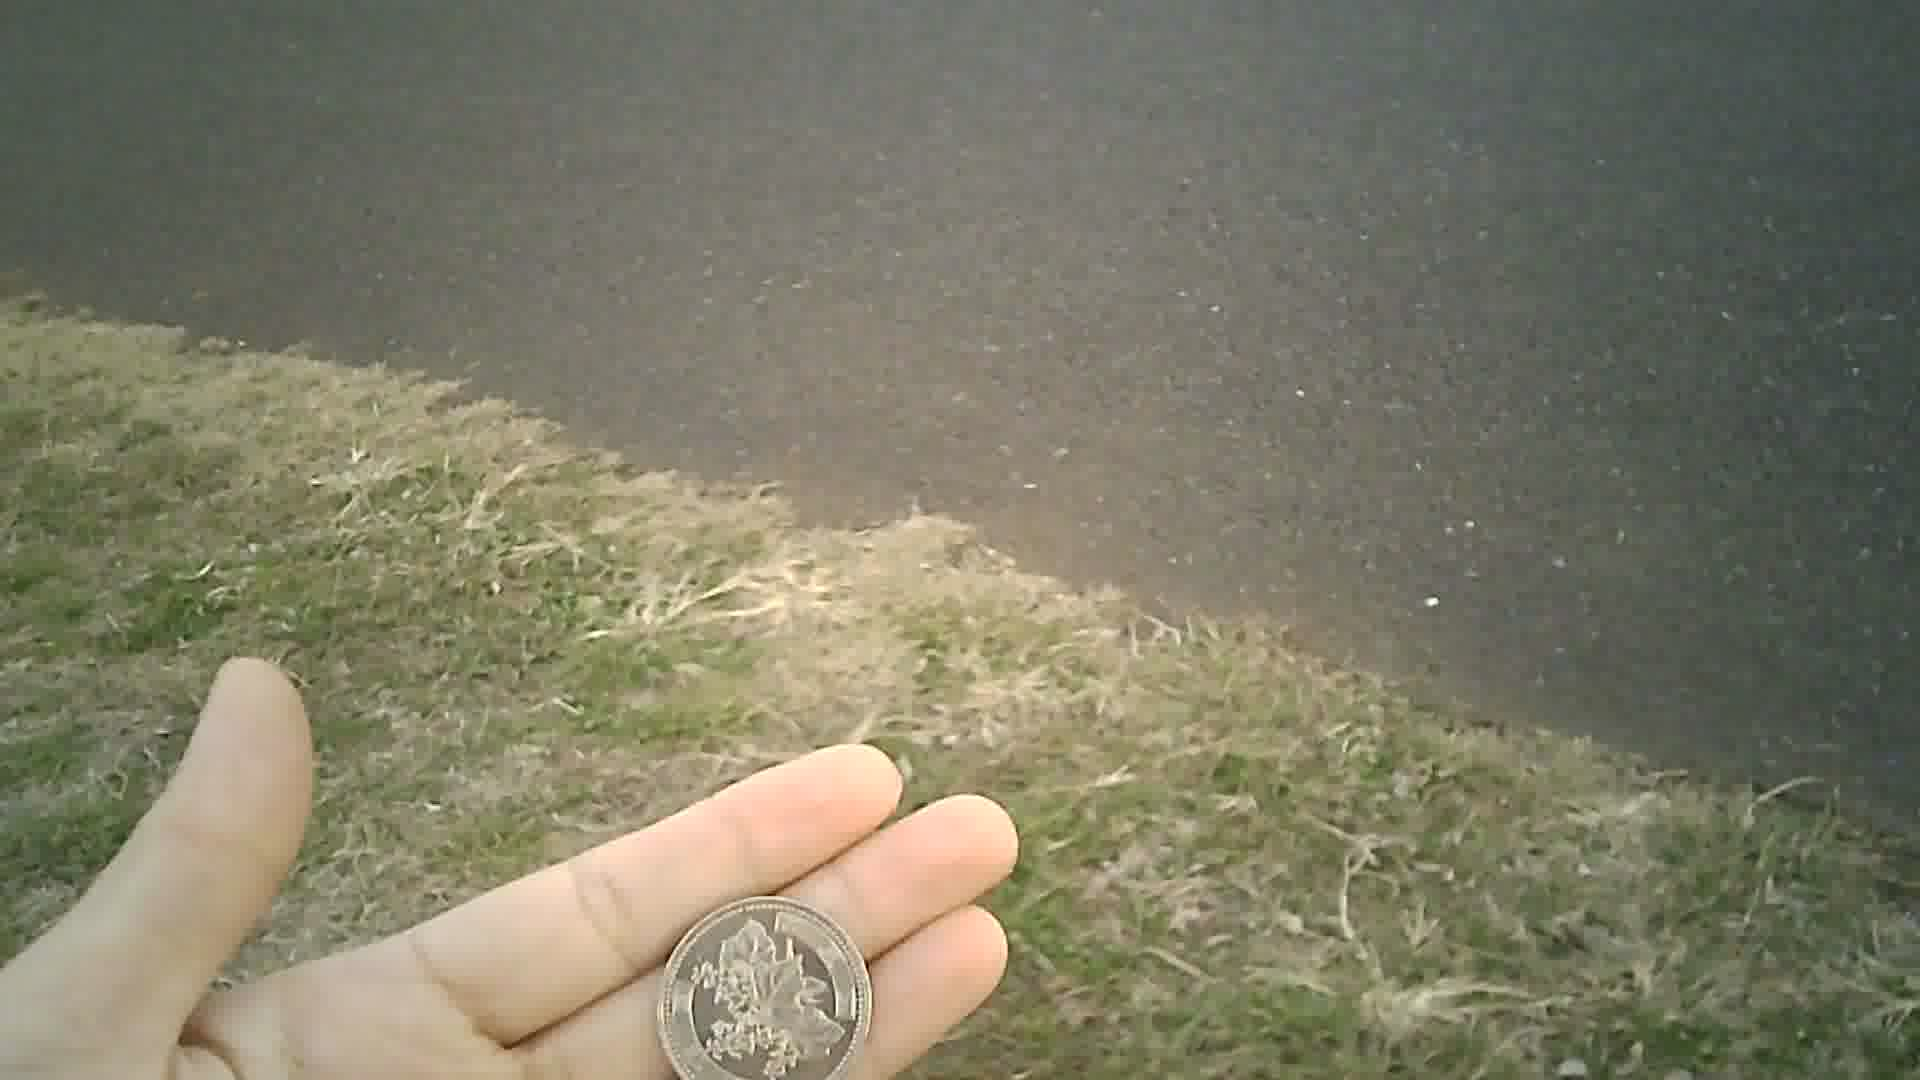500 Yen: (651, 889, 889, 1079)
